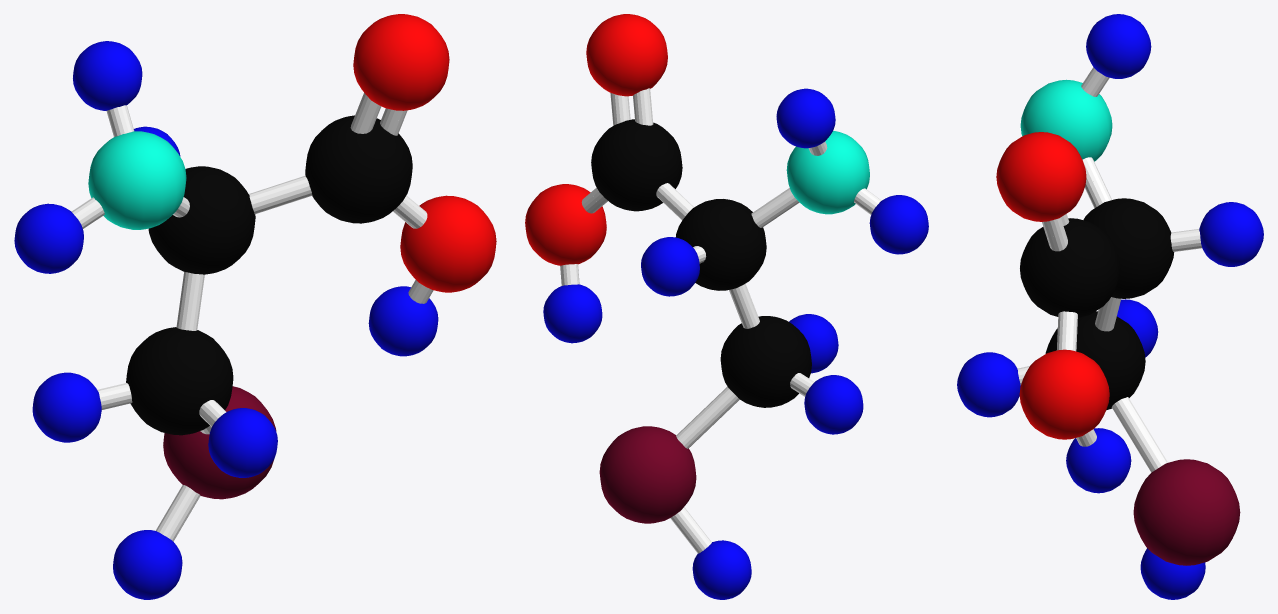
The model's file is cisteina.obj.
3 renders of one model, left to right at view 1: azimuth 30°, elevation 25°; view 2: azimuth 150°, elevation 25°; view 3: azimuth 270°, elevation 25°, orthographic. The views are drawn at different scales.
Visible parts, largest first — view 1: Shape_Sphere.002_Shape_Sphere.003, Shape_Sphere.001_Shape_Sphere.002, Shape_Sphere_Shape_Sphere.001, Shape_Sphere.006_Shape_Sphere.007, Shape_Sphere.003_Shape_Sphere.004, Shape_Sphere.004_Shape_Sphere.005, Shape_Sphere.010_Shape_Sphere.011, Shape_Sphere.008_Shape_Sphere.009, Shape_Sphere.012_Shape_Sphere.013, Shape_Sphere.011_Shape_Sphere.012, Shape_Sphere.013_Shape_Sphere, Shape_Sphere.009_Shape_Sphere.010 (+5 smaller); view 2: Shape_Sphere.010_Shape_Sphere.011, Shape_Sphere.002_Shape_Sphere.003, Shape_Sphere.001_Shape_Sphere.002, Shape_Sphere_Shape_Sphere.001, Shape_Sphere.003_Shape_Sphere.004, Shape_Sphere.004_Shape_Sphere.005, Shape_Sphere.006_Shape_Sphere.007, Shape_Sphere.009_Shape_Sphere.010, Shape_Sphere.011_Shape_Sphere.012, Shape_Sphere.008_Shape_Sphere.009, Shape_Sphere.007_Shape_Sphere.008, Shape_Sphere.005_Shape_Sphere.006 (+4 smaller); view 3: Shape_Sphere.010_Shape_Sphere.011, Shape_Sphere.002_Shape_Sphere.003, Shape_Sphere.003_Shape_Sphere.004, Shape_Sphere.004_Shape_Sphere.005, Shape_Sphere_Shape_Sphere.001, Shape_Sphere.006_Shape_Sphere.007, Shape_Sphere.001_Shape_Sphere.002, Shape_Sphere.009_Shape_Sphere.010, Shape_Sphere.007_Shape_Sphere.008, Shape_Sphere.012_Shape_Sphere.013, Shape_Sphere.005_Shape_Sphere.006, Shape_Sphere.013_Shape_Sphere (+5 smaller).
Boxes of the visible parts, left/top/right/bottom form: Shape_Sphere.002_Shape_Sphere.003: left=305, top=115, right=412, bottom=223; Shape_Sphere.001_Shape_Sphere.002: left=126, top=327, right=233, bottom=435; Shape_Sphere_Shape_Sphere.001: left=148, top=166, right=255, bottom=274; Shape_Sphere.006_Shape_Sphere.007: left=88, top=131, right=186, bottom=229; Shape_Sphere.003_Shape_Sphere.004: left=353, top=14, right=449, bottom=110; Shape_Sphere.004_Shape_Sphere.005: left=400, top=195, right=496, bottom=292; Shape_Sphere.010_Shape_Sphere.011: left=163, top=386, right=276, bottom=499; Shape_Sphere.008_Shape_Sphere.009: left=14, top=203, right=83, bottom=273; Shape_Sphere.012_Shape_Sphere.013: left=208, top=408, right=277, bottom=477; Shape_Sphere.011_Shape_Sphere.012: left=32, top=372, right=101, bottom=442; Shape_Sphere.013_Shape_Sphere: left=113, top=530, right=182, bottom=599; Shape_Sphere.009_Shape_Sphere.010: left=73, top=41, right=142, bottom=110; Shape_Sphere.010_Shape_Sphere.011: left=599, top=426, right=696, bottom=523; Shape_Sphere.002_Shape_Sphere.003: left=591, top=119, right=682, bottom=211; Shape_Sphere.001_Shape_Sphere.002: left=720, top=316, right=811, bottom=407; Shape_Sphere_Shape_Sphere.001: left=675, top=199, right=766, bottom=290; Shape_Sphere.003_Shape_Sphere.004: left=586, top=14, right=667, bottom=96; Shape_Sphere.004_Shape_Sphere.005: left=525, top=184, right=606, bottom=265; Shape_Sphere.006_Shape_Sphere.007: left=786, top=131, right=869, bottom=214; Shape_Sphere.009_Shape_Sphere.010: left=776, top=88, right=835, bottom=148; Shape_Sphere.011_Shape_Sphere.012: left=804, top=375, right=863, bottom=434; Shape_Sphere.008_Shape_Sphere.009: left=869, top=195, right=928, bottom=254; Shape_Sphere.007_Shape_Sphere.008: left=641, top=237, right=699, bottom=296; Shape_Sphere.005_Shape_Sphere.006: left=543, top=284, right=602, bottom=343; Shape_Sphere.010_Shape_Sphere.011: left=1133, top=459, right=1240, bottom=565; Shape_Sphere.002_Shape_Sphere.003: left=1020, top=218, right=1120, bottom=317; Shape_Sphere.003_Shape_Sphere.004: left=996, top=132, right=1086, bottom=221; Shape_Sphere.004_Shape_Sphere.005: left=1019, top=349, right=1109, bottom=439; Shape_Sphere_Shape_Sphere.001: left=1083, top=198, right=1174, bottom=298; Shape_Sphere.006_Shape_Sphere.007: left=1020, top=79, right=1112, bottom=161; Shape_Sphere.001_Shape_Sphere.002: left=1045, top=311, right=1145, bottom=409; Shape_Sphere.009_Shape_Sphere.010: left=1086, top=14, right=1151, bottom=78; Shape_Sphere.007_Shape_Sphere.008: left=1199, top=202, right=1263, bottom=266; Shape_Sphere.012_Shape_Sphere.013: left=957, top=352, right=1020, bottom=417; Shape_Sphere.005_Shape_Sphere.006: left=1066, top=428, right=1131, bottom=493; Shape_Sphere.013_Shape_Sphere: left=1140, top=548, right=1205, bottom=599.
Bounding box in the file's own units: 5.08 × 6.12 × 3.11.
